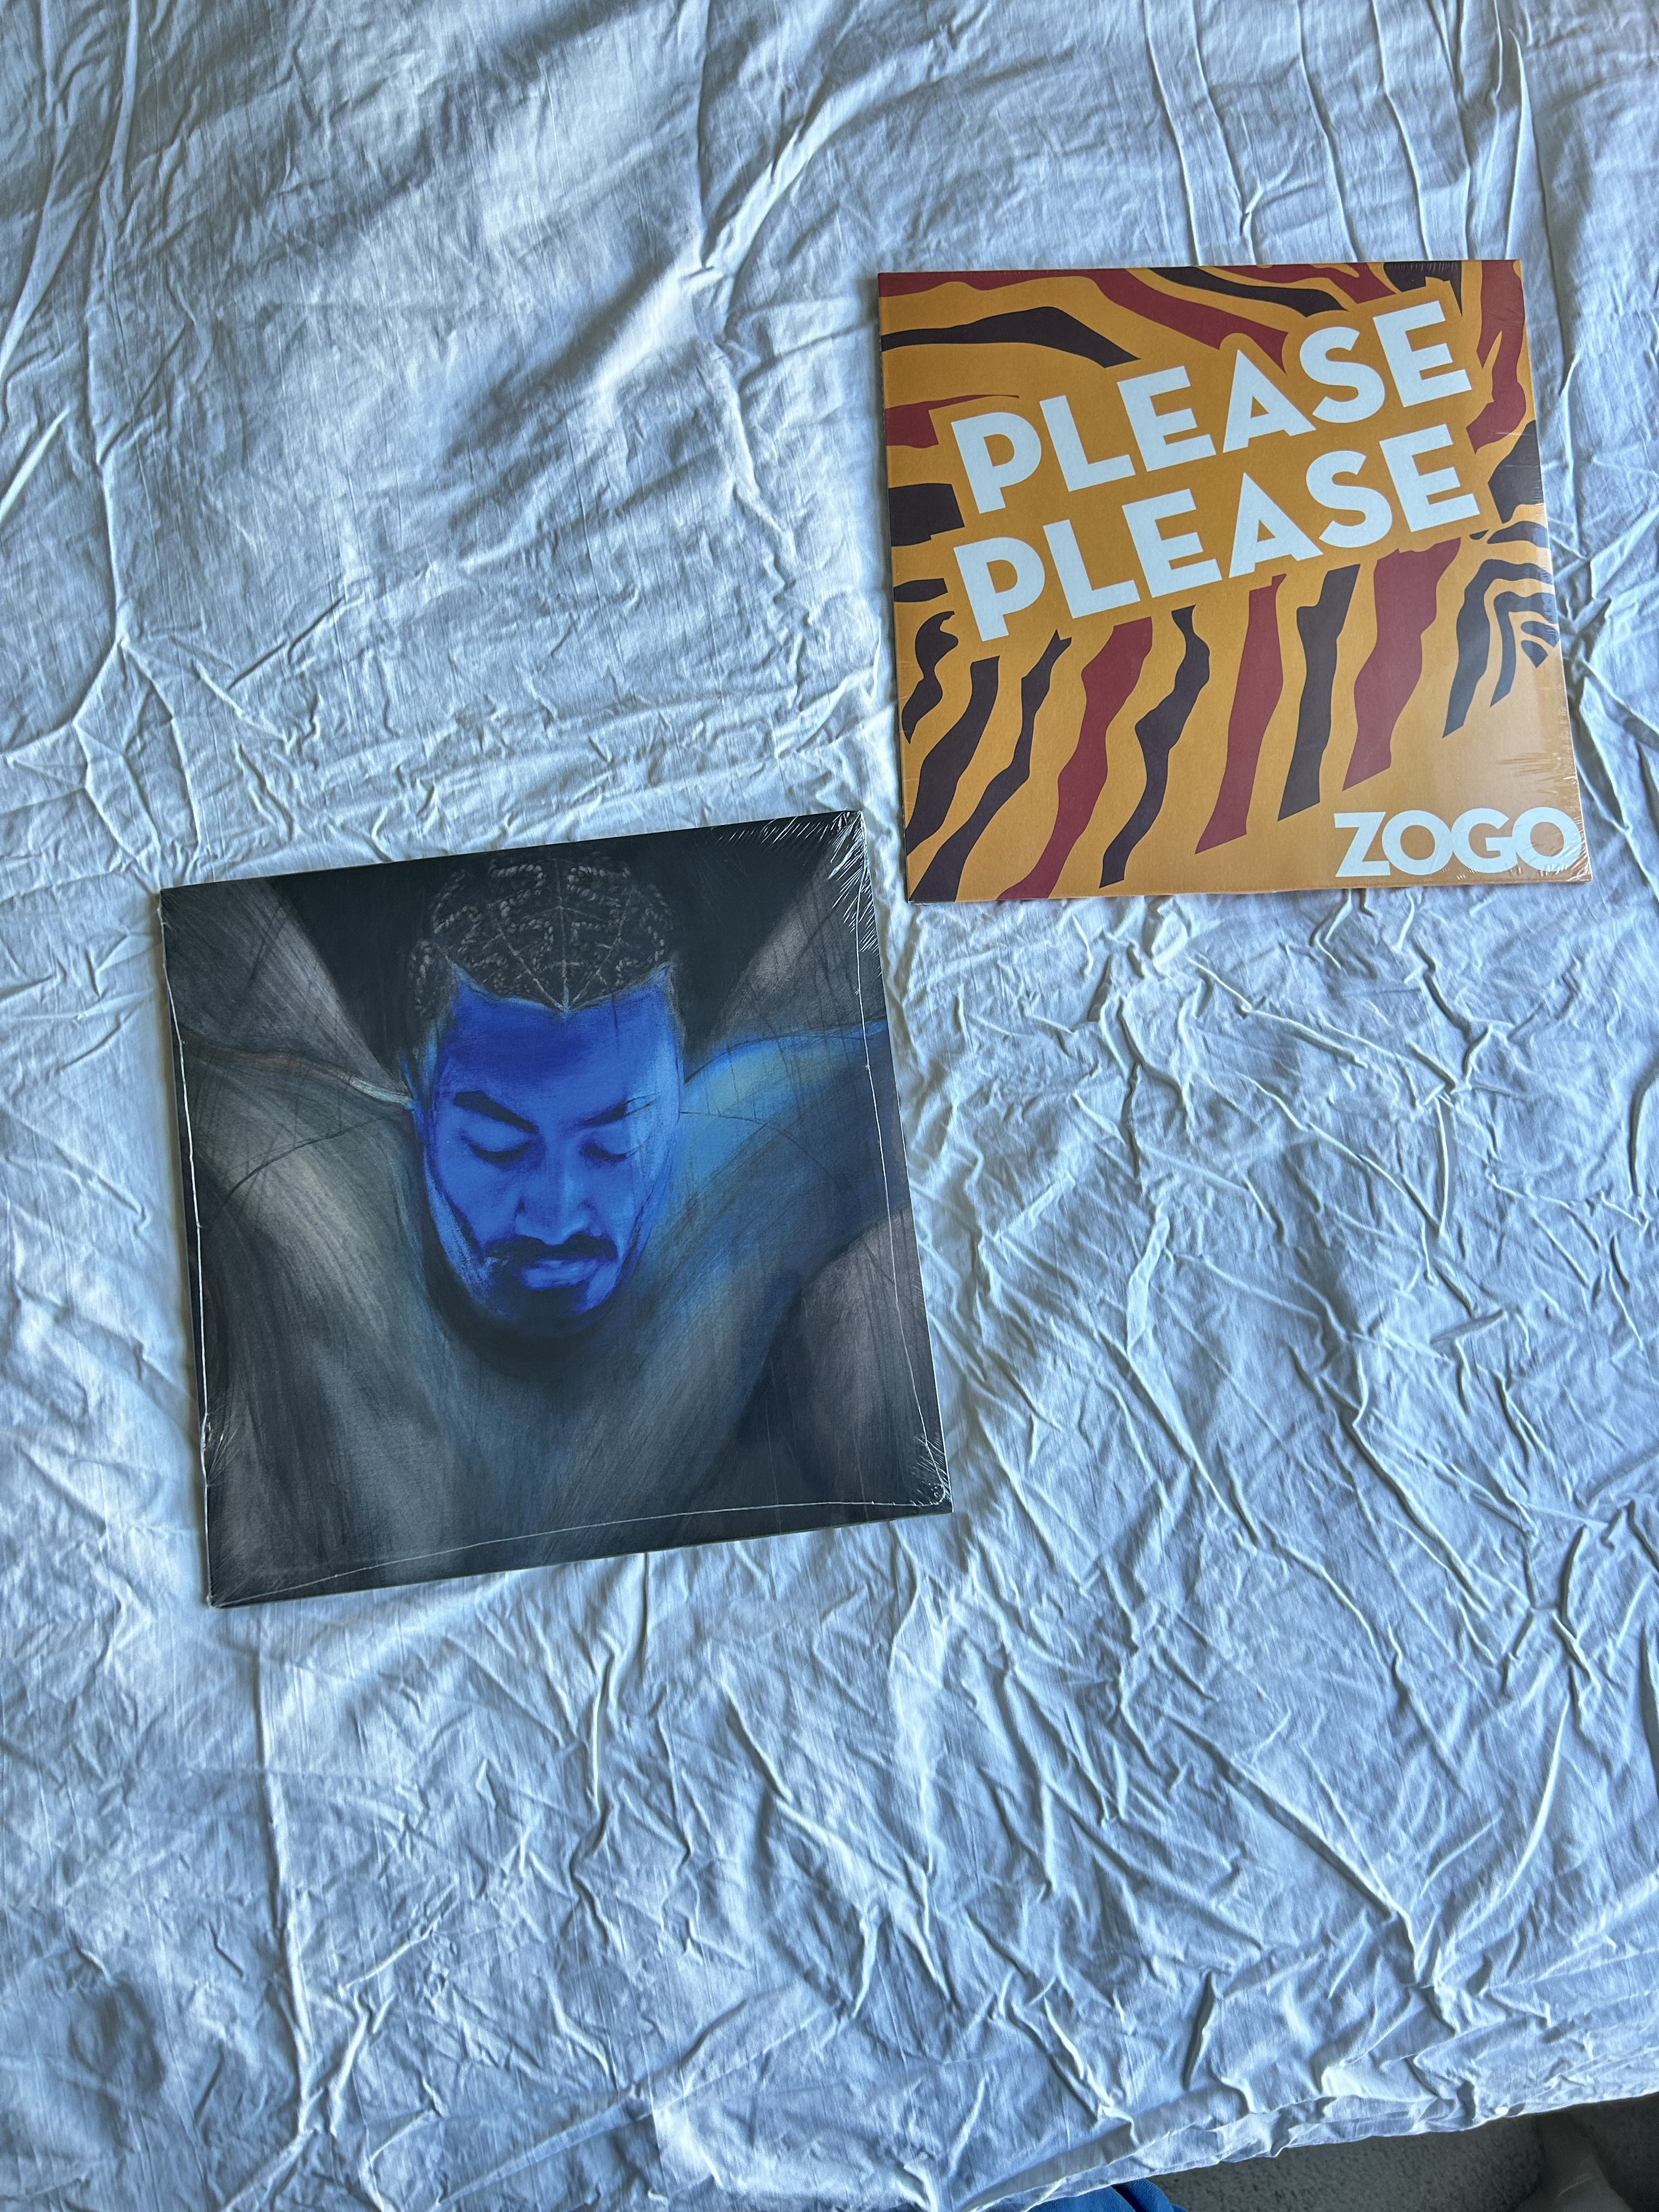navy blue_song of sage: post panic!: (99, 899, 882, 1618)
zogo_please please: (864, 266, 1575, 909)
